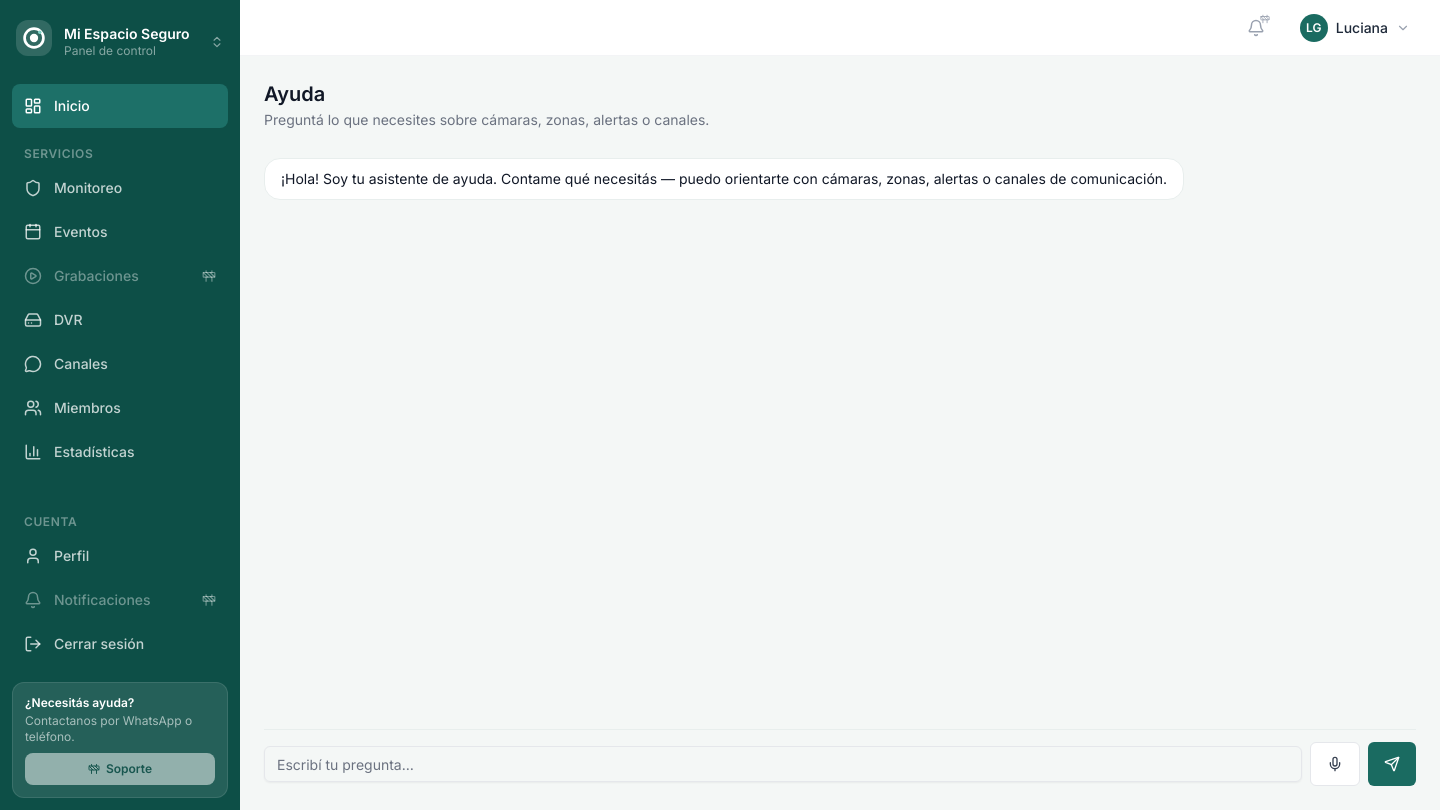
Test case: HelpChatPage › shows the not-enabled copy on a 409
Type "¿Cómo configuro una zona?" into the field named "Mensaje".
click(783, 764); type("¿Cómo configuro una zona?")  # box [264, 746, 1302, 782]
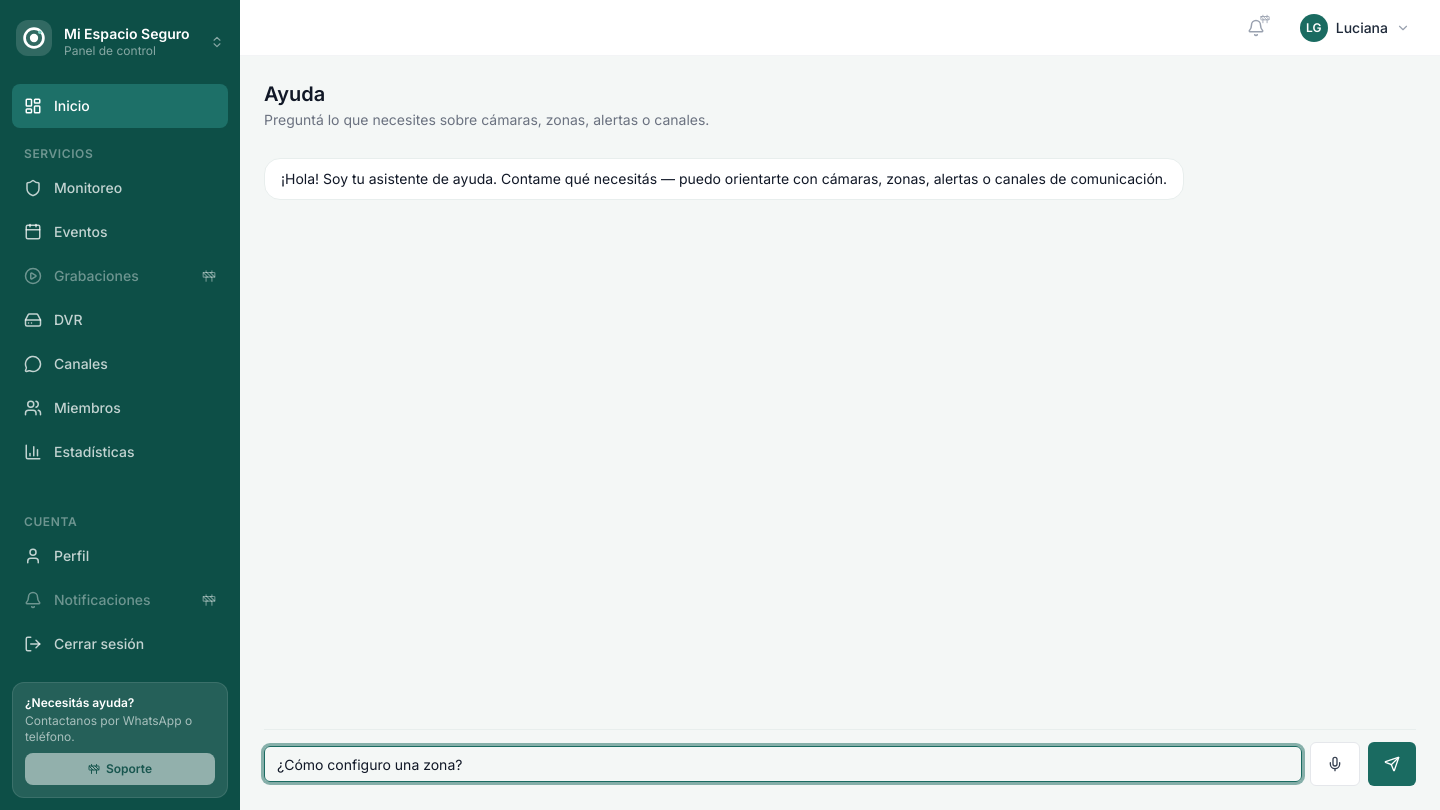
Click the 2nd button named "Enviar".
click(1392, 764)  # box [1368, 742, 1416, 786]
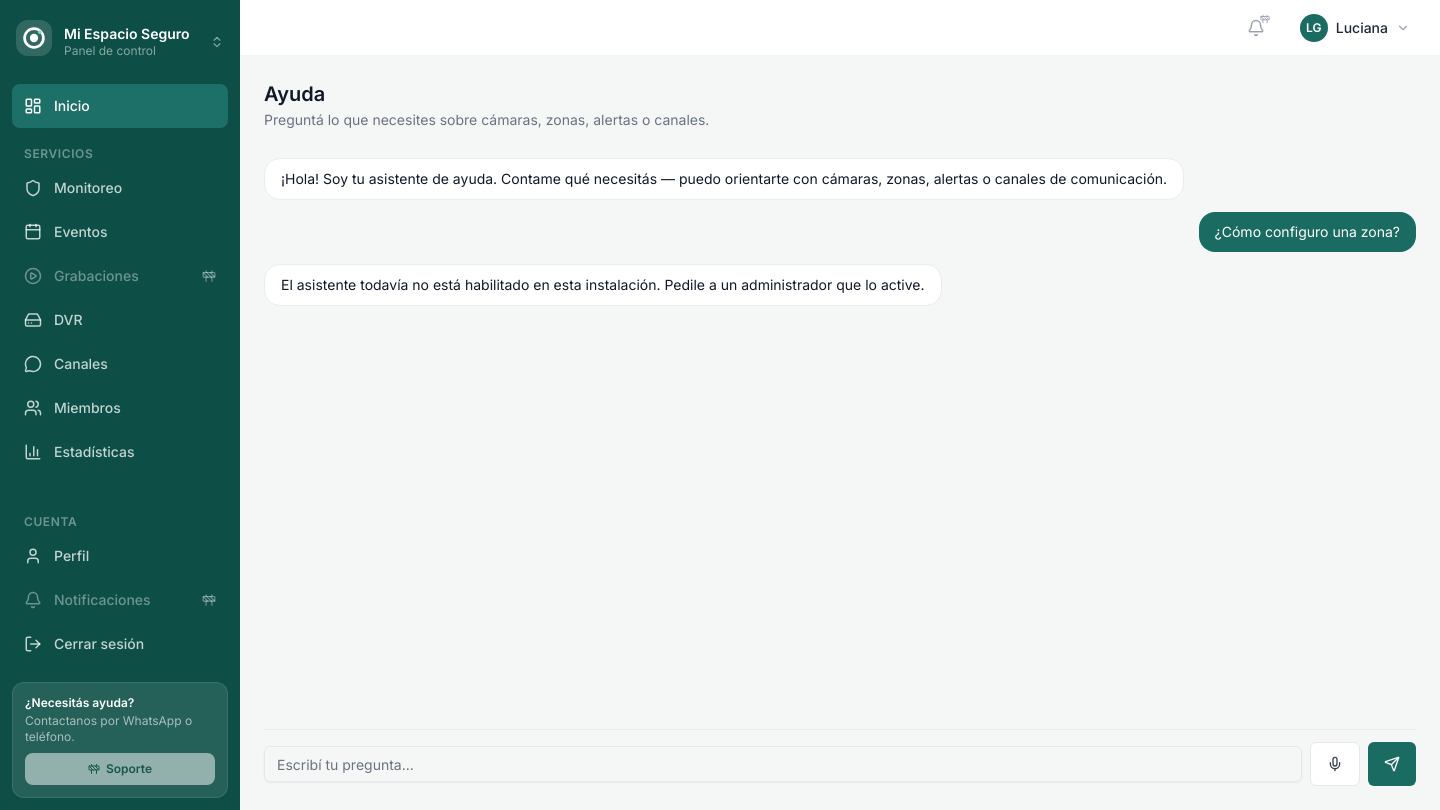
Expected: the text "todavía no está habilitado" is shown, [281, 276, 924, 293]
